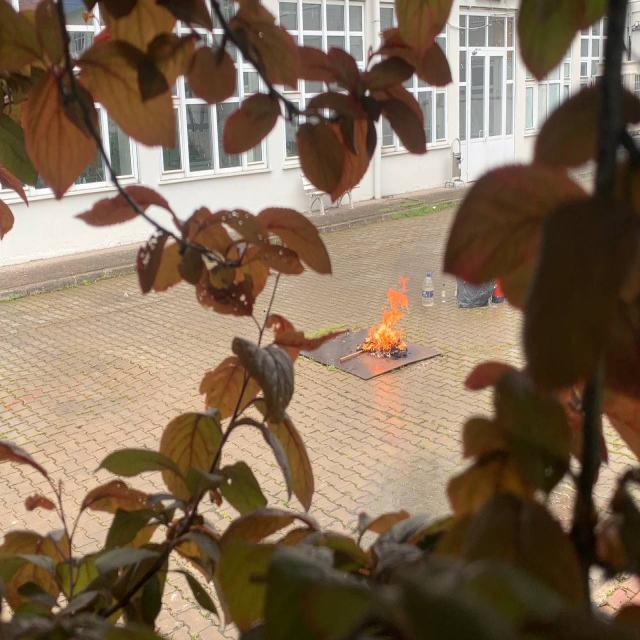fire: (359, 274, 412, 358)
